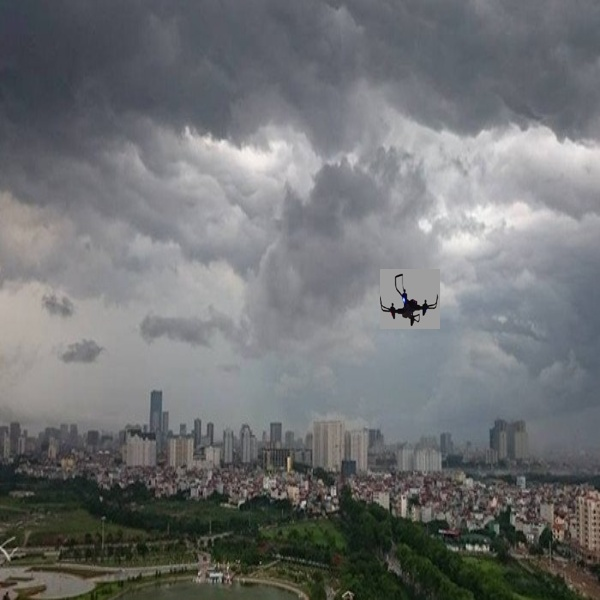drone: (374, 269, 442, 331)
